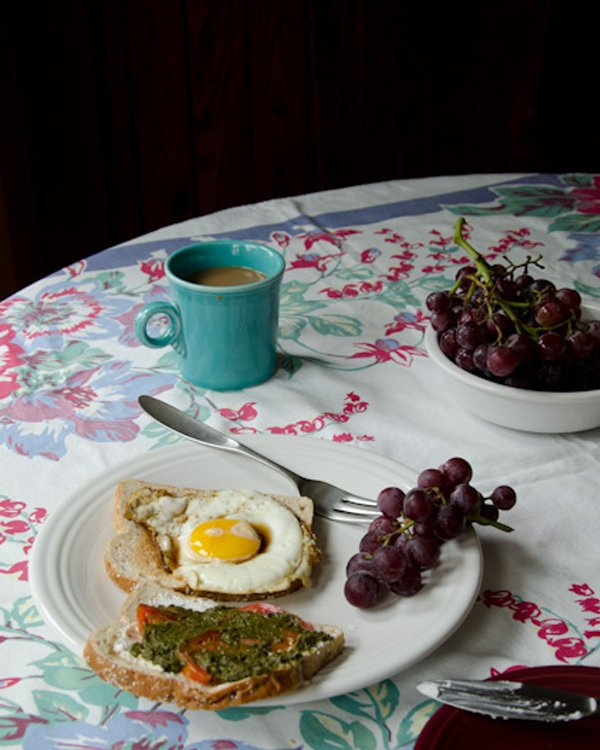fried egg: (153, 499, 294, 581)
slice of bread: (107, 477, 178, 589)
